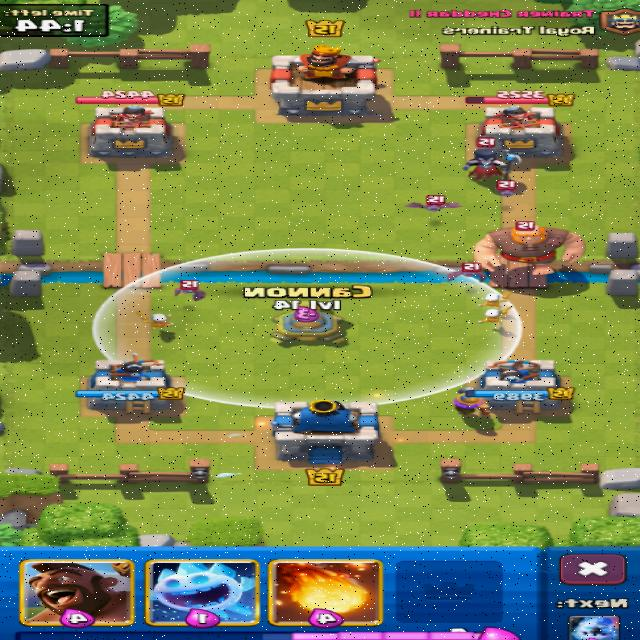Enemy-Bat: (407, 196, 461, 211), (449, 263, 485, 281), (175, 280, 205, 301), (498, 179, 515, 196)
Enemy-Giant: (475, 225, 583, 275)
Enemy-KingTower: (271, 46, 377, 115)
Enemy-NightWitch: (464, 137, 521, 179)
Enemy-PrincessTower: (91, 105, 176, 163), (479, 105, 562, 157)
Player-KingTower: (273, 400, 379, 464)
Player-Musketeer: (454, 389, 489, 416)
Player-PrincessTower: (78, 354, 184, 414), (460, 359, 574, 414)
Player-Skeleton: (479, 306, 510, 328), (137, 313, 174, 329), (479, 292, 512, 306)
